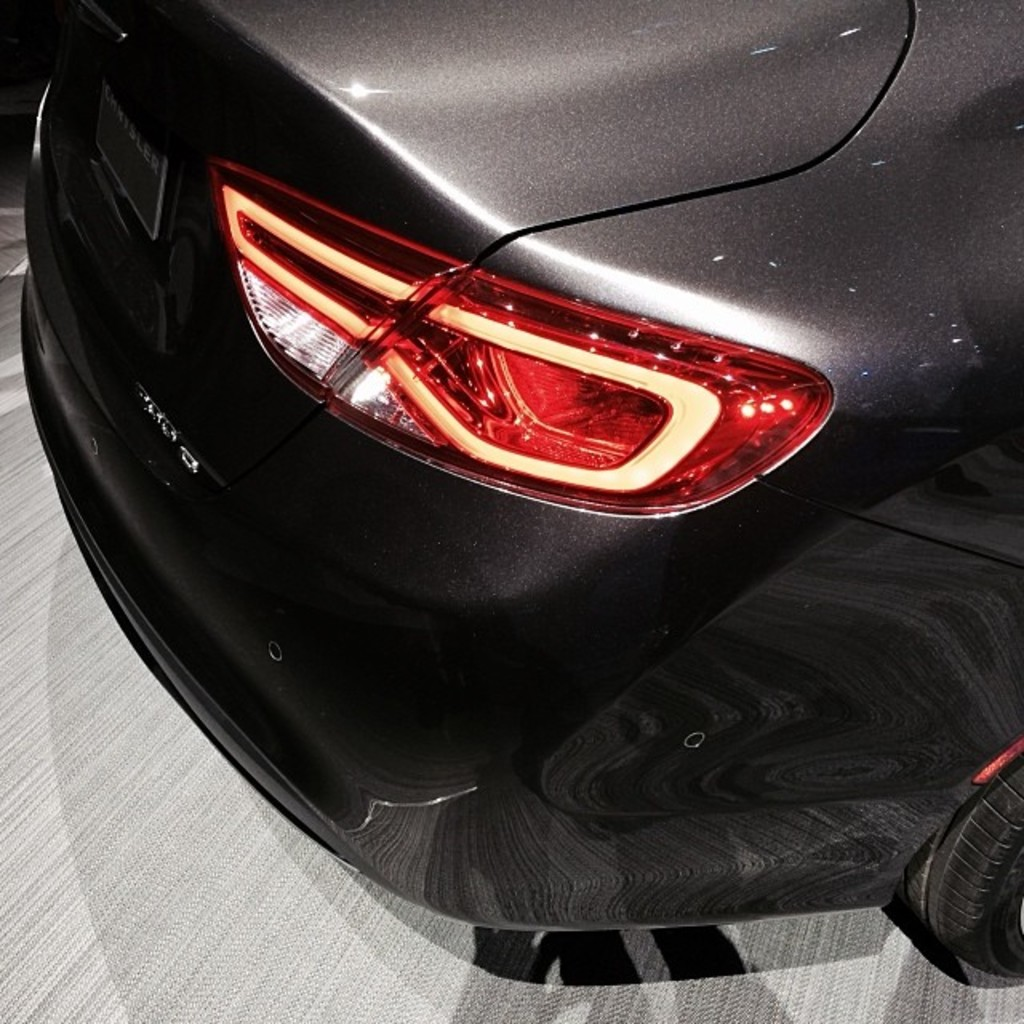Car: (11, 0, 1022, 963)
